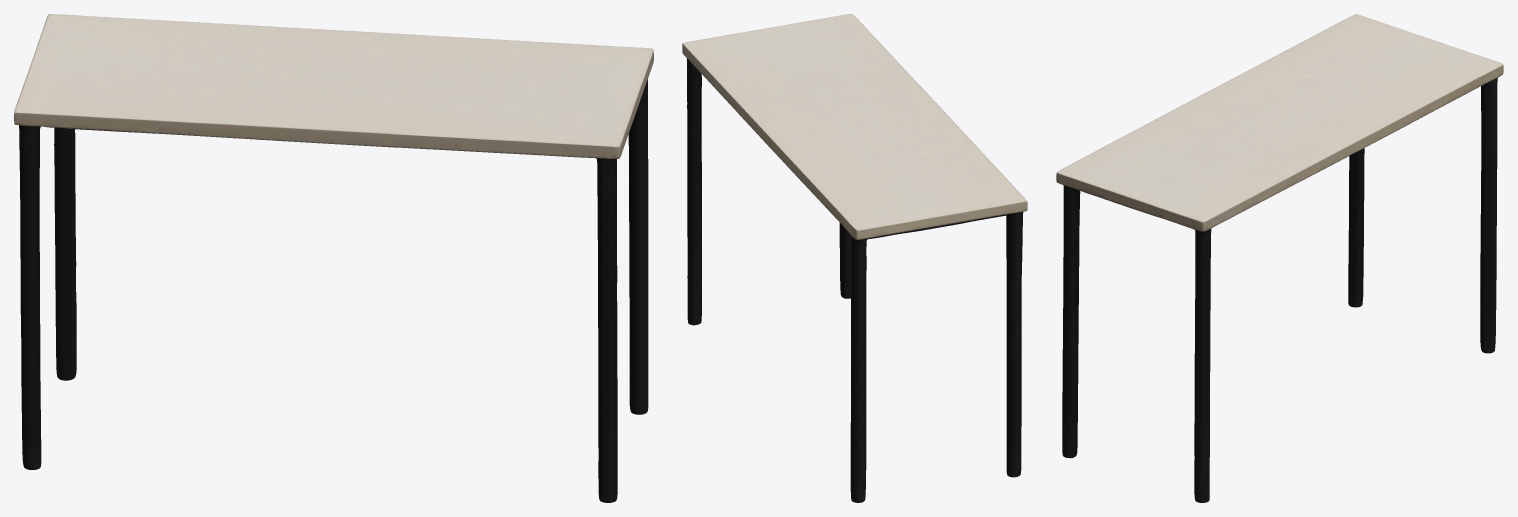
Rendered from light-colored_wooden_table_in_middle_row_(left)_000.glb.
3 views of the same model, side by side, from view 1: azimuth 30°, elevation 25°; view 2: azimuth 150°, elevation 25°; view 3: azimuth 270°, elevation 25° (orthographic). The views are drawn at different scales.
Parts seen in each view (by area): view 1: phase2_final_light-colored_wooden_table_in_middle_row_(left); view 2: phase2_final_light-colored_wooden_table_in_middle_row_(left); view 3: phase2_final_light-colored_wooden_table_in_middle_row_(left).
Part boxes in pixels (x1=…): phase2_final_light-colored_wooden_table_in_middle_row_(left): x1=14, y1=14, x2=653, y2=502; phase2_final_light-colored_wooden_table_in_middle_row_(left): x1=682, y1=14, x2=1027, y2=502; phase2_final_light-colored_wooden_table_in_middle_row_(left): x1=1056, y1=14, x2=1503, y2=502.
Size of the model in its own units: 0.6826 by 0.4354 by 0.6146.
Materials: 1 (1 with a texture image).
